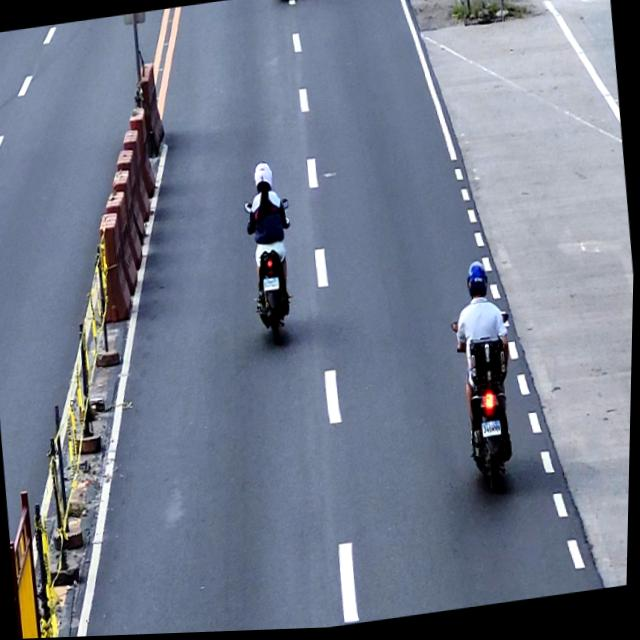License-Plate: (482, 423, 503, 442), (263, 278, 280, 294)
Motorcycle: (448, 312, 528, 501), (241, 196, 304, 349)
